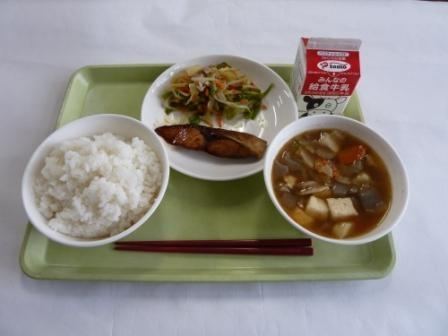Fish: (152, 118, 266, 174)
Milk: (282, 26, 374, 120)
Rice: (17, 113, 171, 237)
Soups: (266, 111, 412, 244)
salad with sauce: (155, 53, 266, 120)
